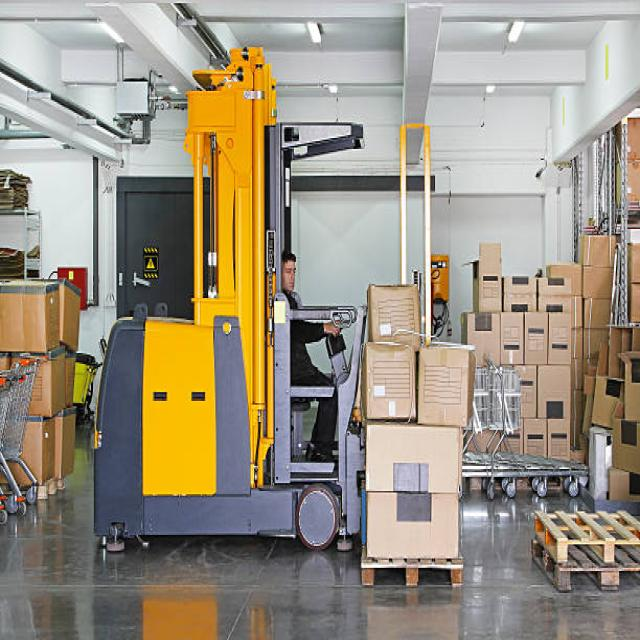Wooden-Pallets: (513, 528, 639, 606), (534, 503, 638, 568), (351, 558, 470, 595)
